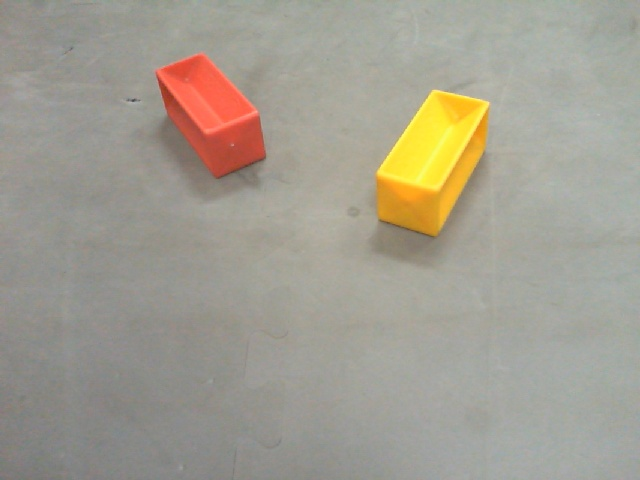RedSample: (155, 53, 265, 178)
YellowSample: (376, 91, 490, 232)
